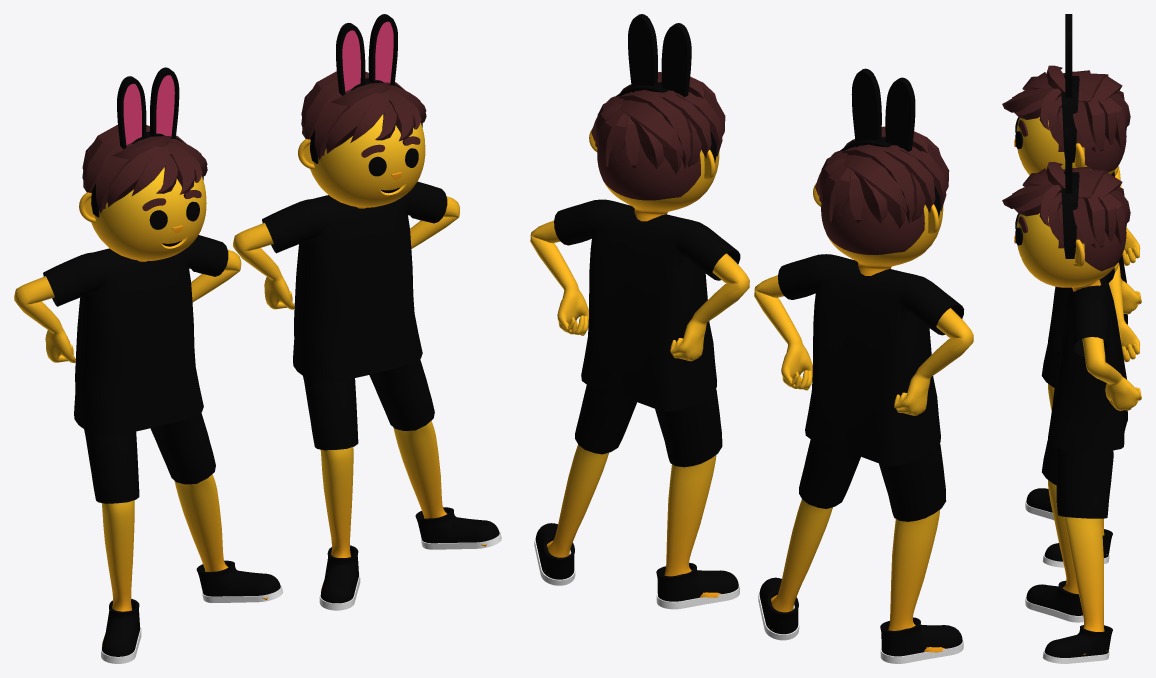
File: people_with_bunny_ears.fbx
The picture shows the model from 3 angles, left to right: view 1: azimuth 30°, elevation 25°; view 2: azimuth 150°, elevation 25°; view 3: azimuth 270°, elevation 25°; orthographic projection. The views are drawn at different scales.
Parts seen in each view (by area): view 1: Circle.1305, Circle.1271, Cube.3473, Cube.3354, Roundcube.286, Roundcube.279, Cube.3362, Cube.3481, Sphere.246, Sphere.236, Sphere.247, Sphere.237; view 2: Circle.1305, Circle.1271, Cube.3354, Cube.3473, Roundcube.279, Roundcube.286, Cube.3481, Cube.3362, Sphere.247, Sphere.237, Sphere.236, Sphere.246; view 3: Circle.1305, Cube.3354, Cube.3473, Roundcube.286, Roundcube.279, Circle.1271, Sphere.246, Sphere.247, Circle.1309, Circle.1275, Cube.3481, Cube.3362 (+3 smaller).
Boxes of the visible parts, x1,y1,x2,y2 form: Circle.1305: (233, 181, 486, 590); Circle.1271: (14, 235, 267, 644); Cube.3473: (301, 71, 426, 159); Cube.3354: (82, 124, 207, 213); Roundcube.286: (310, 114, 425, 208); Roundcube.279: (91, 167, 206, 261); Cube.3362: (117, 67, 179, 149); Cube.3481: (336, 14, 397, 95); Sphere.246: (415, 507, 501, 549); Sphere.236: (196, 560, 282, 602); Sphere.247: (319, 545, 360, 610); Sphere.237: (101, 599, 141, 663); Circle.1305: (530, 199, 749, 597); Circle.1271: (754, 254, 973, 652); Cube.3354: (815, 126, 949, 228); Cube.3473: (591, 72, 725, 174); Roundcube.279: (821, 197, 943, 275); Roundcube.286: (597, 143, 719, 221); Cube.3481: (628, 14, 691, 97); Cube.3362: (851, 68, 915, 151); Sphere.247: (656, 562, 739, 609); Sphere.237: (880, 617, 963, 663); Sphere.236: (758, 577, 799, 640); Sphere.246: (534, 523, 575, 585); Circle.1305: (1042, 262, 1141, 654); Cube.3354: (1002, 65, 1130, 151); Cube.3473: (1002, 162, 1130, 248); Roundcube.286: (1016, 193, 1126, 291); Roundcube.279: (1016, 97, 1126, 175); Circle.1271: (1041, 166, 1141, 554); Sphere.246: (1042, 625, 1112, 663); Sphere.247: (1025, 580, 1083, 622); Circle.1309: (1061, 171, 1079, 258); Circle.1275: (1061, 75, 1079, 162); Cube.3481: (1065, 110, 1072, 193); Cube.3362: (1065, 14, 1072, 97).
Size of the model in its own units: 194 by 230 by 57.57.
Materials: 1 (1 with a texture image).
